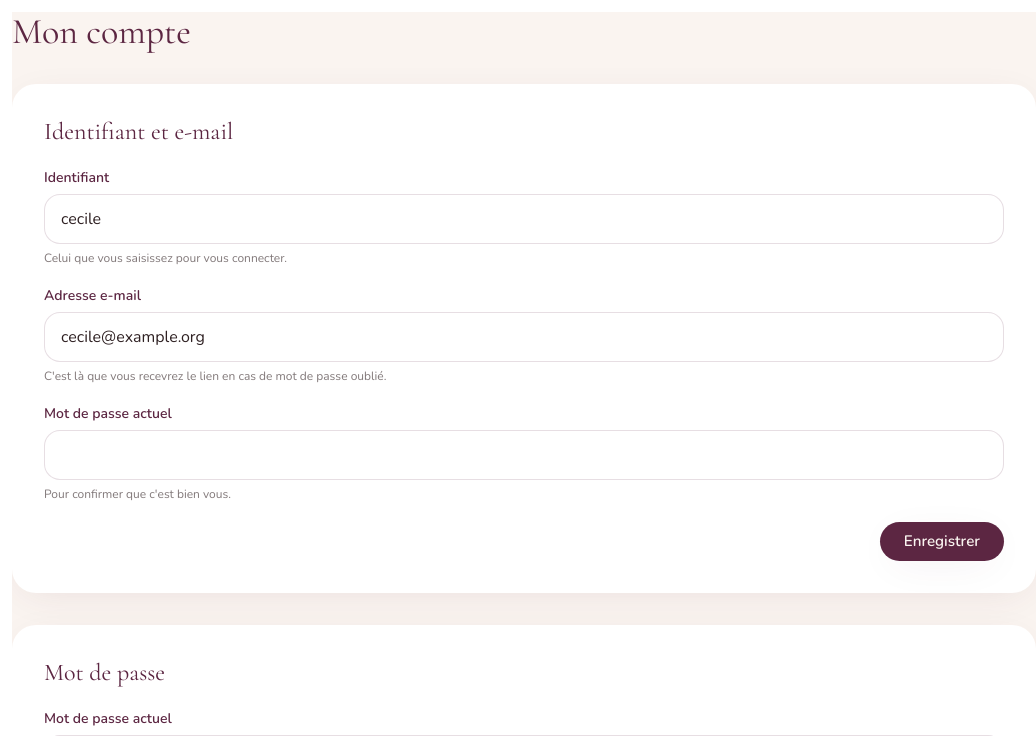
it: Mon compte › shows a wrong current password on that field
Type "x" into the field labelled "Adresse e-mail" at (524, 337), box [44, 312, 1004, 362]
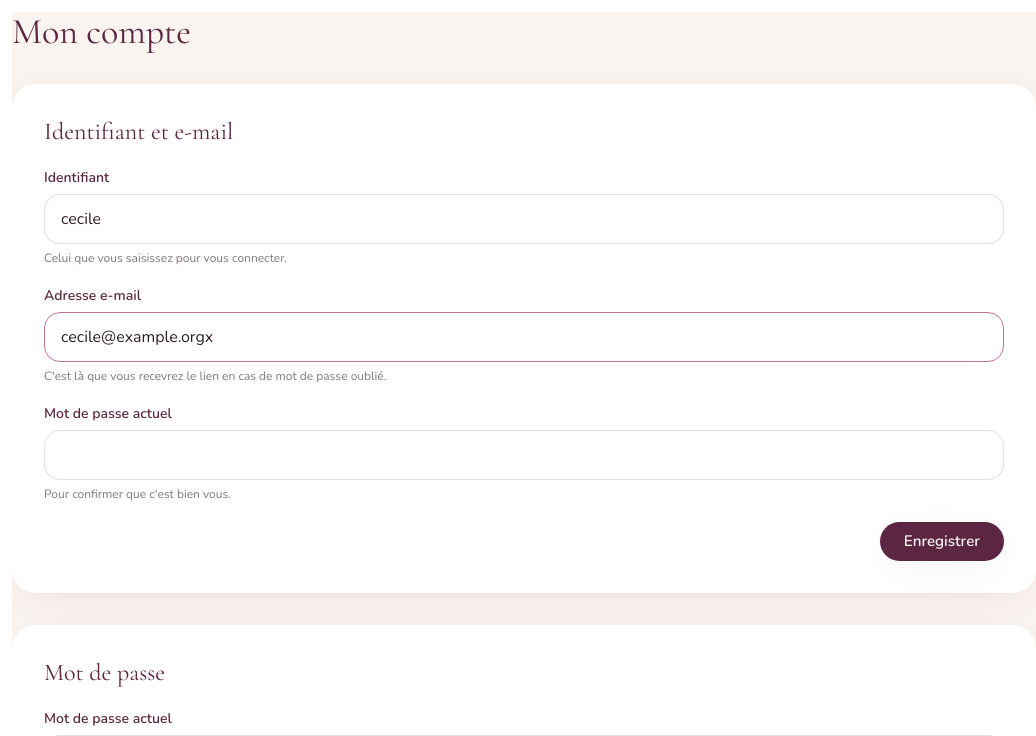
Click the button "Enregistrer" at (942, 542), box [880, 522, 1004, 561]
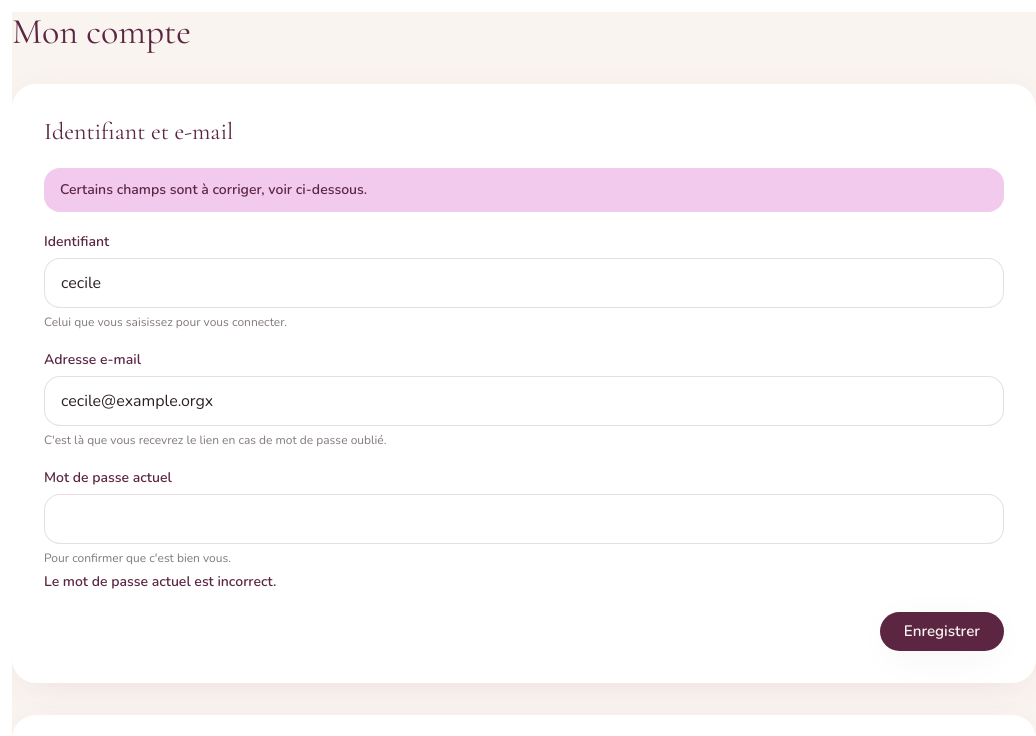
Check: the text "Le mot de passe actuel est incorrect." is shown, box [44, 572, 276, 591]
